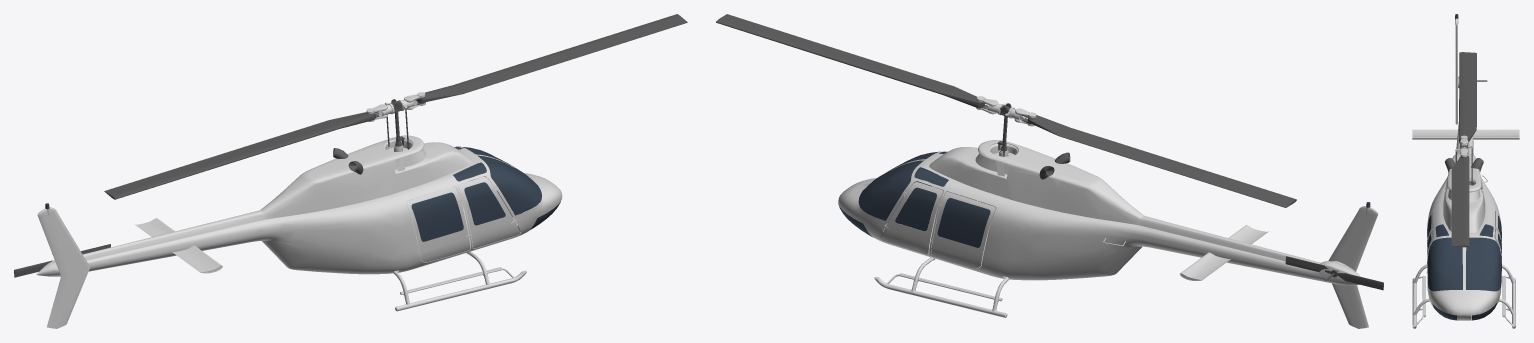
3 views of the same model, side by side, from view 1: azimuth 30°, elevation 25°; view 2: azimuth 150°, elevation 25°; view 3: azimuth 270°, elevation 25° (orthographic). The views are drawn at different scales.
Visible parts, largest first — view 1: body, spin, glass; view 2: body, spin (×2), glass; view 3: body, glass, spin, trim.
Part boxes in pixels (x1=…): body: x1=36, y1=92, x2=562, y2=328; spin: x1=104, y1=14, x2=687, y2=199; glass: x1=45, y1=146, x2=560, y2=241; body: x1=838, y1=96, x2=1378, y2=328; spin (×2): x1=716, y1=14, x2=1383, y2=290; glass: x1=838, y1=151, x2=1370, y2=247; body: x1=1412, y1=18, x2=1519, y2=328; glass: x1=1427, y1=14, x2=1501, y2=320; spin: x1=1451, y1=52, x2=1476, y2=247; trim: x1=1445, y1=158, x2=1483, y2=172.
Bounding box in the file's own units: 2.2 × 0.6258 × 0.378.
